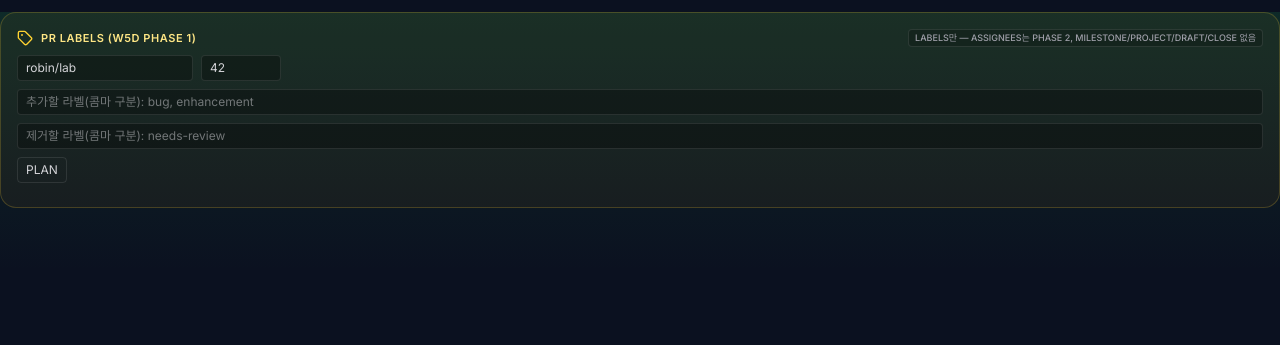
it: PullRequestLabelsUpdateCard — W5d Phase 1 › (#1) add + remove 입력 → Plan → 응답 plan summary + diff preview 표시
The image size is (1280, 345).
Type "enhancement, bug" into the field named "pr-labels add" at x=640, y=102, box [17, 89, 1263, 115]
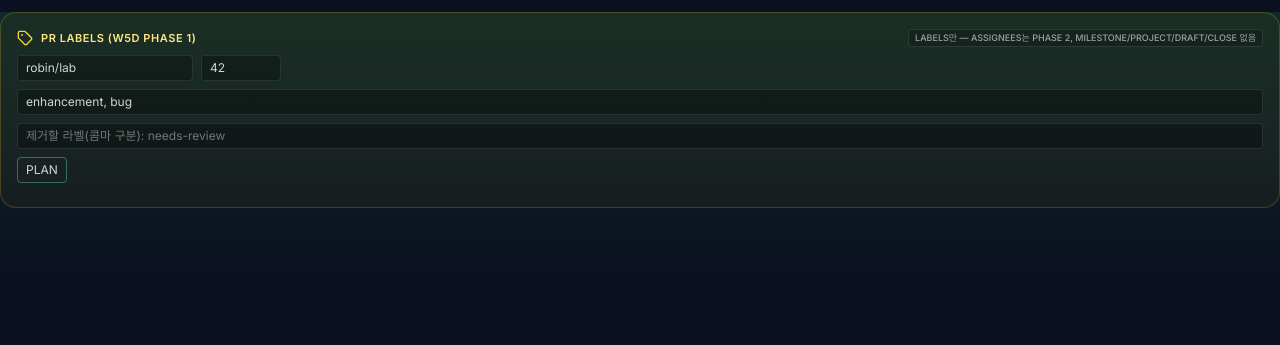
Type "needs-review" into the field named "pr-labels remove" at x=640, y=136, box [17, 123, 1263, 149]
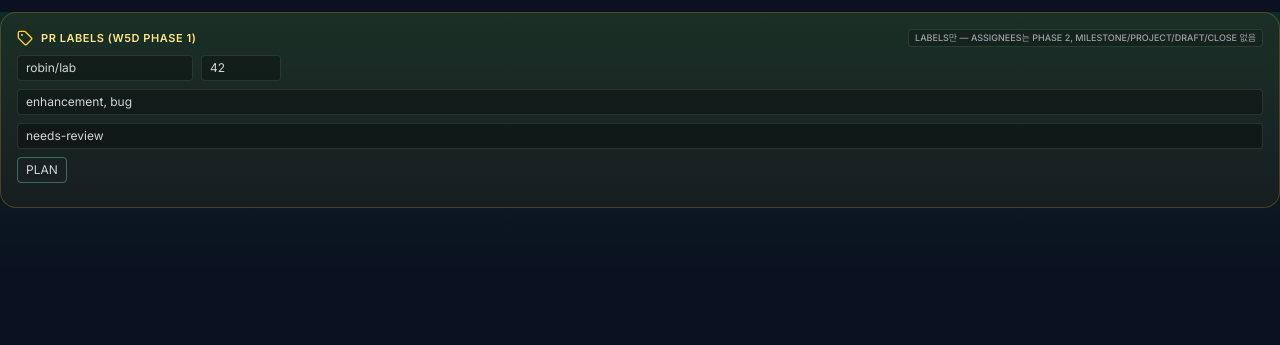
Click the button with test id "publish-pr-labels-plan" at x=42, y=170, box [17, 157, 67, 183]
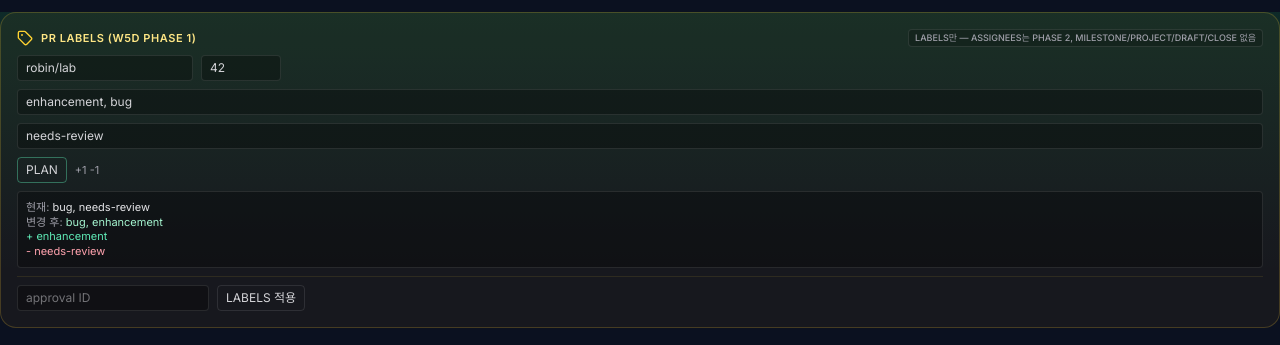
Check: the text with test id "publish-pr-labels-plan-summary" reads "+1 -1", box [75, 163, 99, 177]
Check: the element with test id "publish-pr-labels-diff" shows "bug, enhancement", box [66, 215, 163, 229]
Check: the element with test id "publish-pr-labels-diff" shows "enhancement", box [36, 229, 107, 243]
